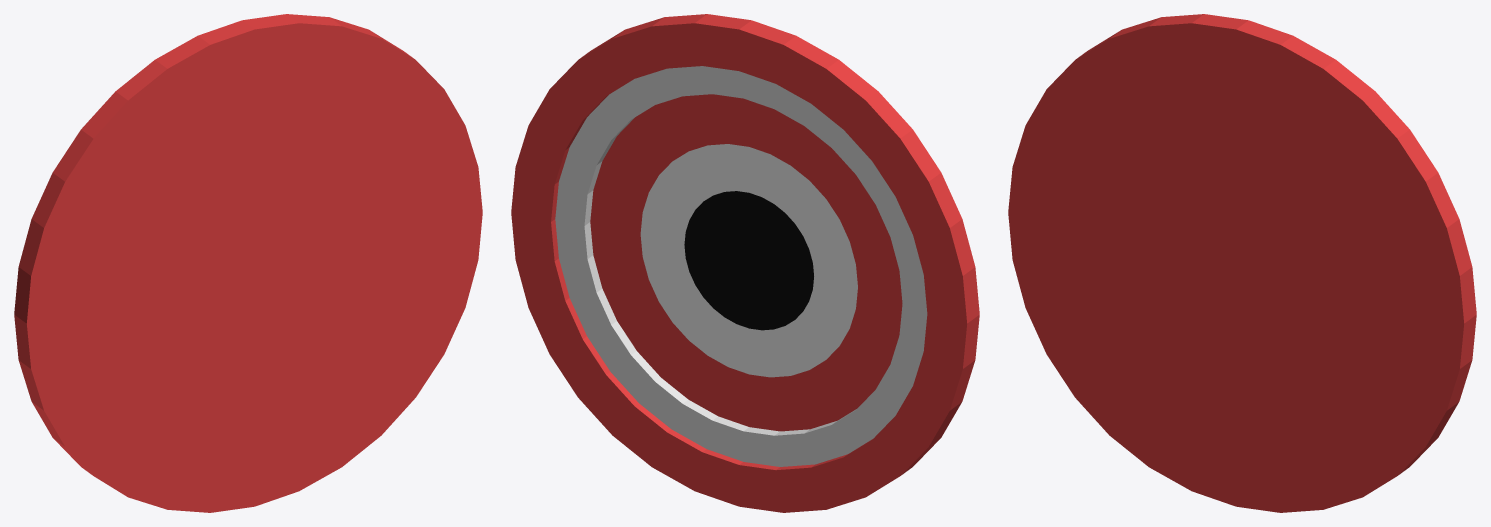
File: target.fbx
3 views of the same model, side by side, from view 1: azimuth 30°, elevation 25°; view 2: azimuth 150°, elevation 25°; view 3: azimuth 330°, elevation 25° (orthographic).
Visible parts, largest first — view 1: Circle; view 2: Circle; view 3: Circle.
Boxes of the visible parts, bbox=[...] form: Circle: bbox=[14, 14, 482, 512]; Circle: bbox=[511, 14, 979, 512]; Circle: bbox=[1008, 14, 1476, 512].
Size of the model in its own units: 200 by 200 by 9.57.
